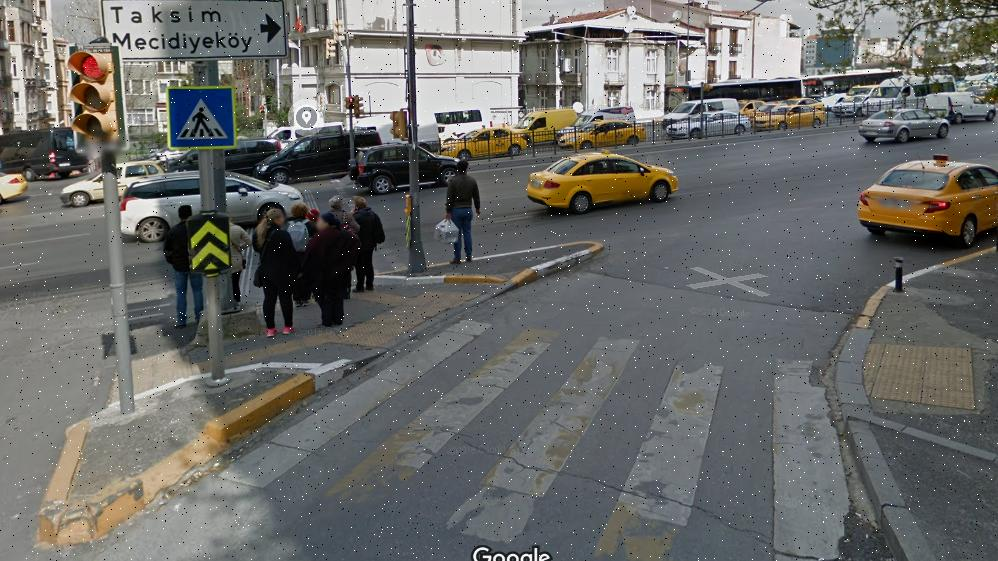redlight: (68, 47, 124, 149)
